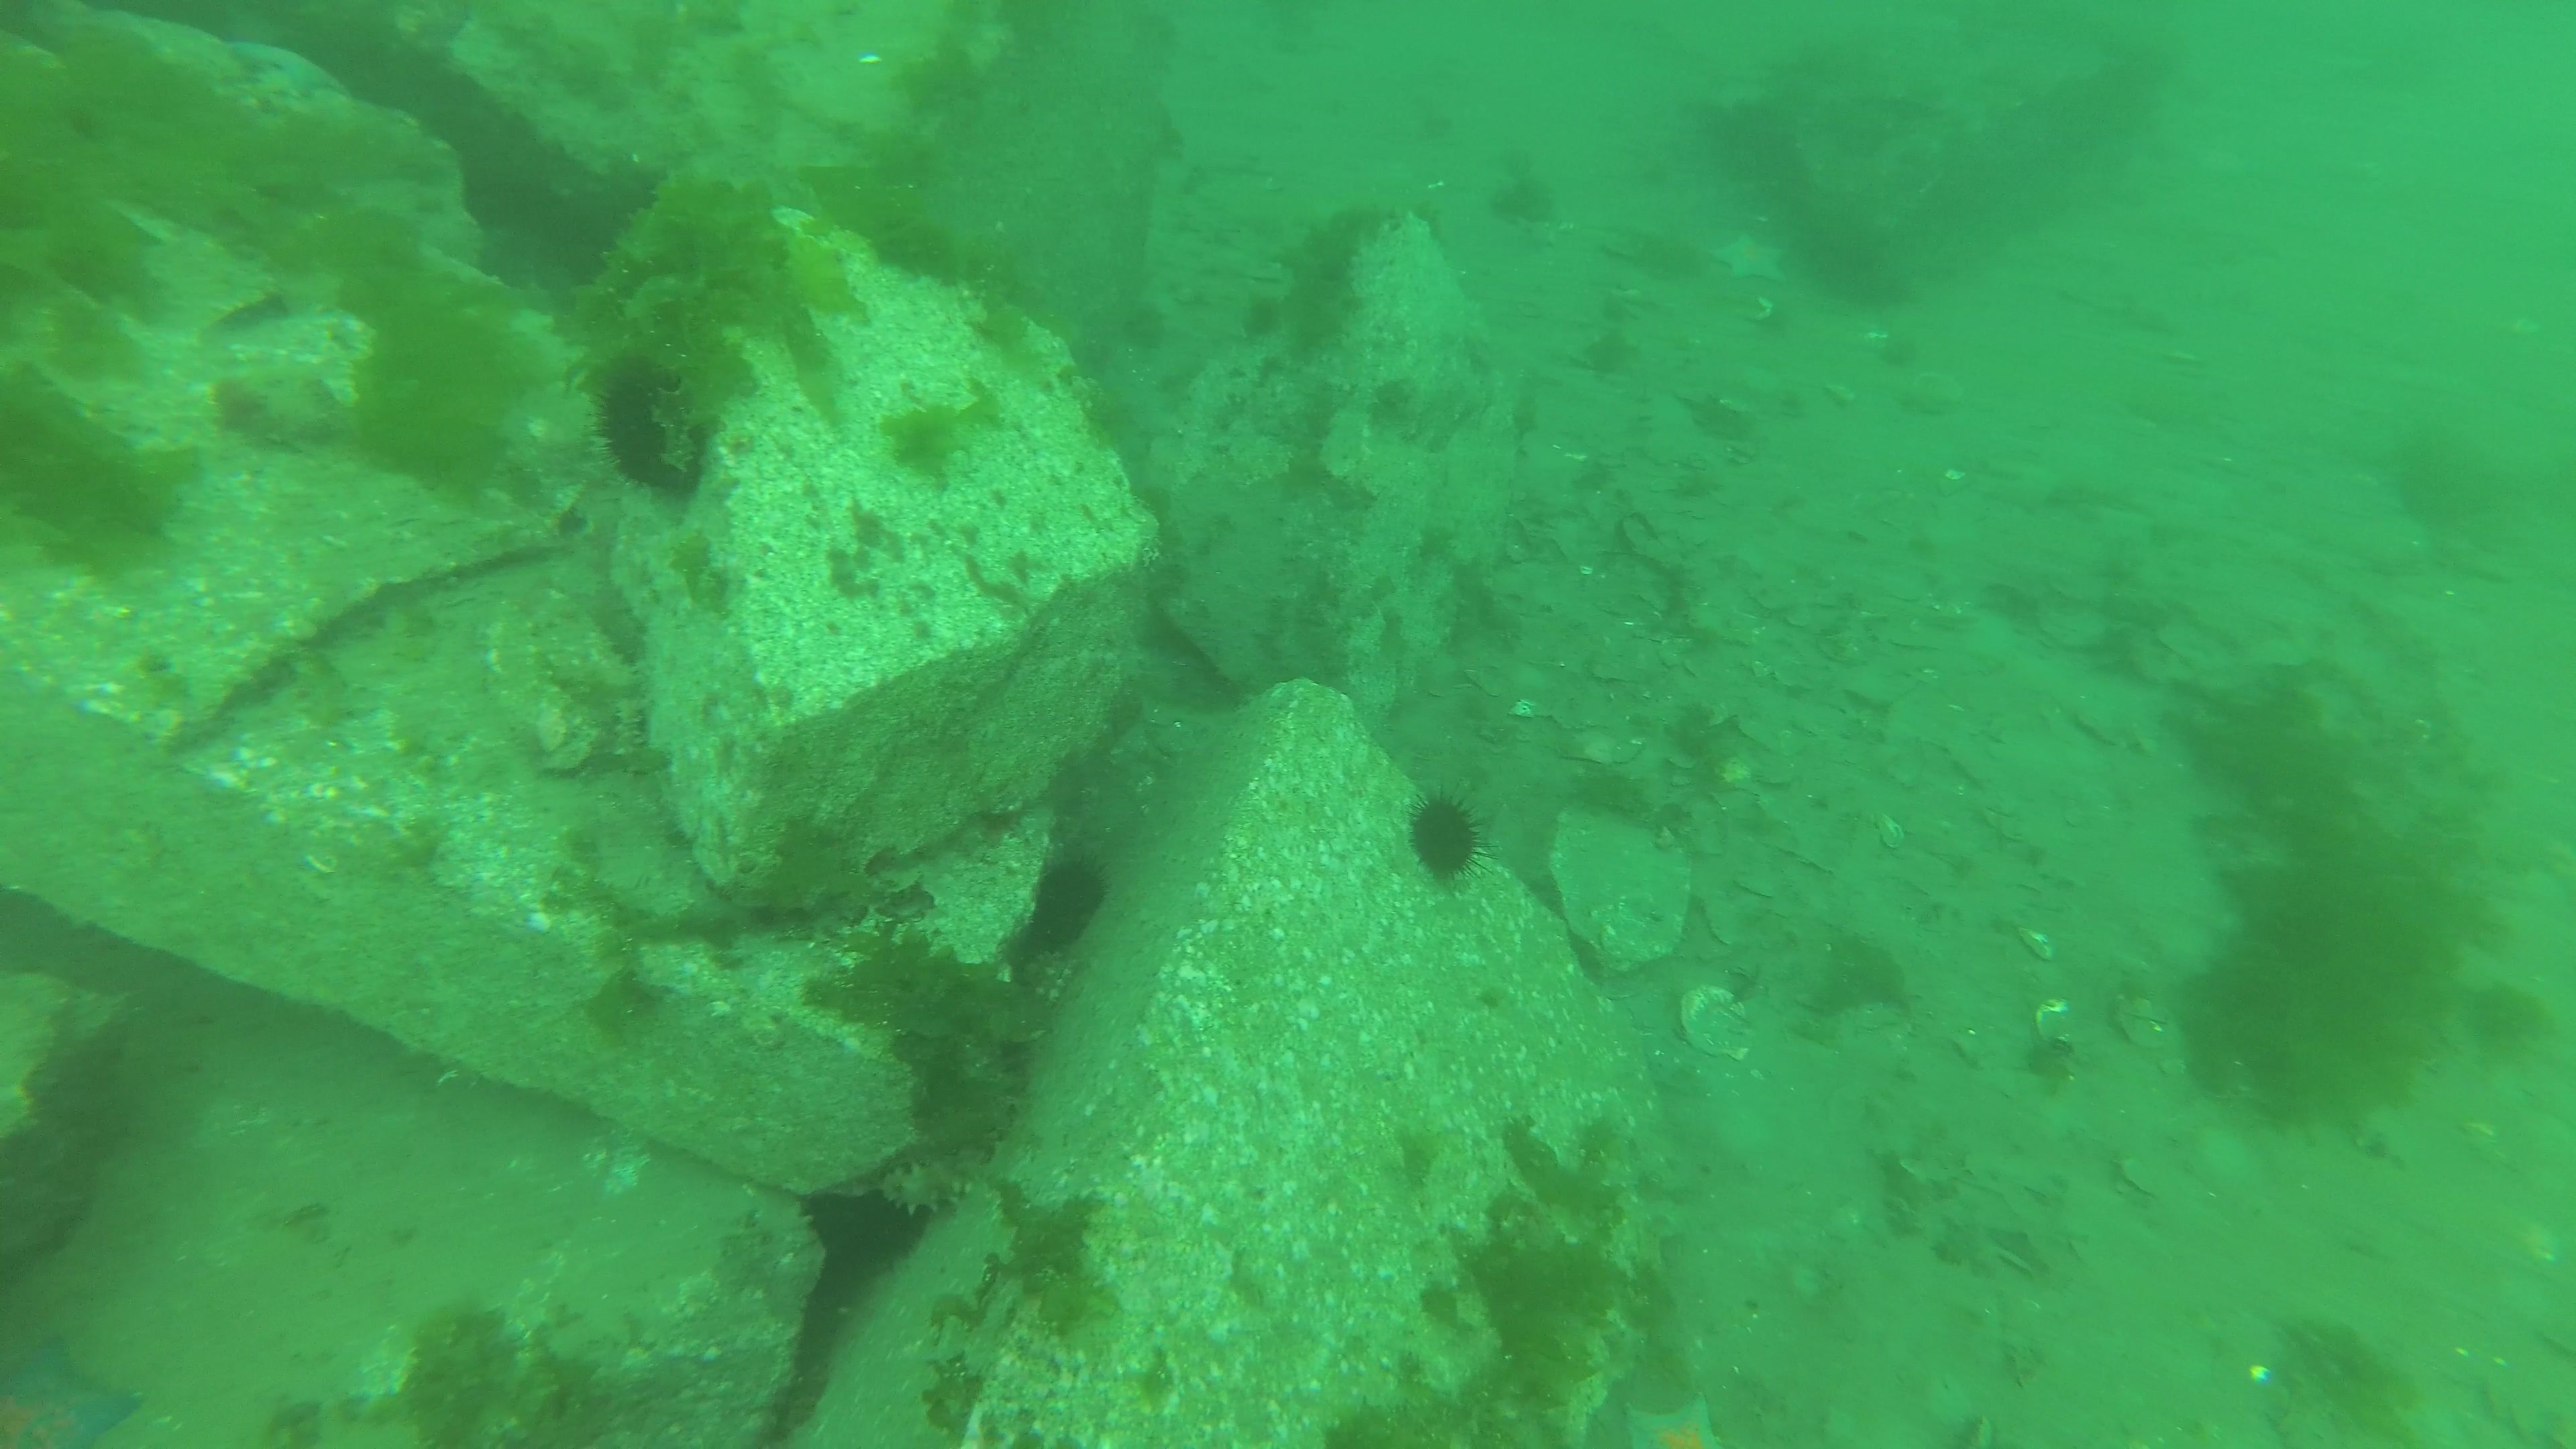echinus: (582, 357, 722, 501), (1407, 786, 1502, 886), (1033, 855, 1113, 950)
holothurian: (881, 1143, 985, 1219), (614, 697, 649, 761)
scallop: (1679, 982, 1760, 1063)
starfish: (1621, 1385, 1729, 1449), (1711, 230, 1789, 281)
